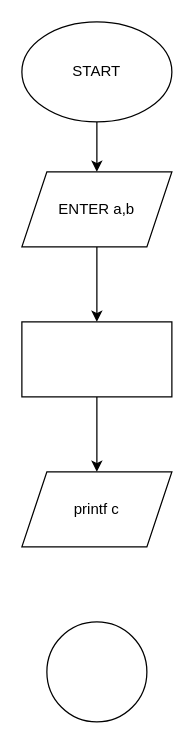
Image size: 194x744. Some labels were removed from this diagram. Here are the shapes that lost their labels. From the top down, the box of each, then its label:
(21, 321, 172, 397): C = a+b
(46, 621, 147, 722): end
